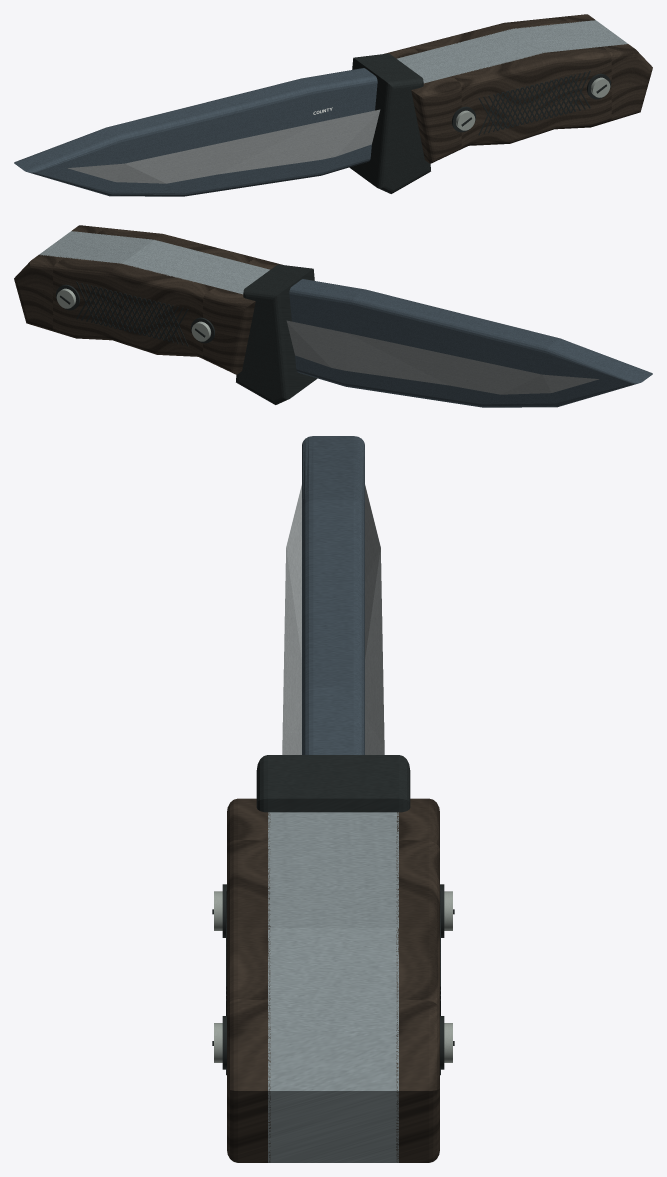
The picture shows the model from 3 angles, top to bottom: view 1: azimuth 30°, elevation 25°; view 2: azimuth 150°, elevation 25°; view 3: azimuth 270°, elevation 25°; orthographic projection. The views are drawn at different scales.
Size of the model in its own units: 2.26 by 0.4088 by 0.3888.
7 materials, 7 textured.
